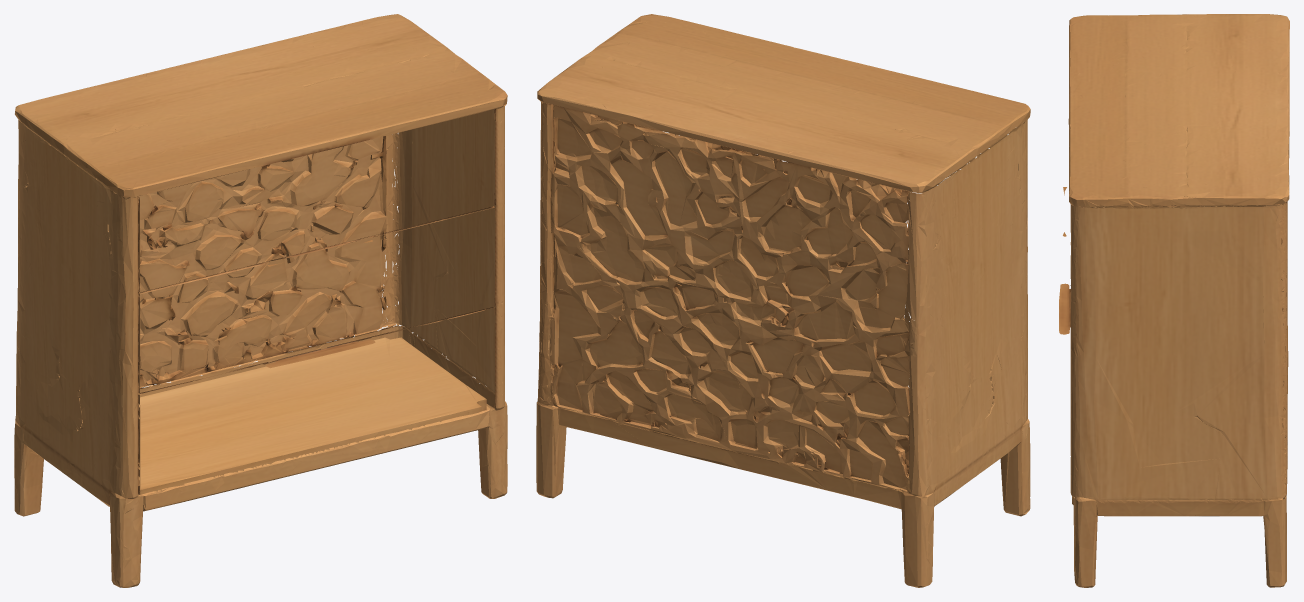
File: dresser-body.glb
3 views of the same model, side by side, from view 1: azimuth 30°, elevation 25°; view 2: azimuth 150°, elevation 25°; view 3: azimuth 270°, elevation 25° (orthographic). The views are drawn at different scales.
Parts seen in each view (by area): view 1: source_surface_3, source_surface_5, source_surface_4, source_surface_2, source_surface_1, source_surface_0, source_surface_6; view 2: source_surface_5, source_surface_3, source_surface_4, source_surface_1, source_surface_2; view 3: source_surface_2, source_surface_4, source_surface_3, source_surface_1, source_surface_0.
Part boxes in pixels (x1,y1,x2,y2): source_surface_3: (14, 119, 507, 587); source_surface_5: (18, 121, 495, 393); source_surface_4: (15, 14, 507, 197); source_surface_2: (391, 106, 505, 410); source_surface_1: (382, 133, 402, 327); source_surface_0: (137, 307, 495, 495); source_surface_6: (138, 109, 495, 292); source_surface_5: (546, 105, 924, 493); source_surface_3: (536, 120, 1030, 587); source_surface_4: (537, 14, 1030, 193); source_surface_1: (537, 102, 555, 406); source_surface_2: (537, 102, 555, 405); source_surface_2: (1070, 203, 1287, 503); source_surface_4: (1068, 14, 1289, 208); source_surface_3: (1070, 203, 1286, 587); source_surface_1: (1275, 202, 1288, 498); source_surface_0: (1059, 242, 1070, 334).
Bounding box in the file's own units: 0.8999 × 0.8938 × 0.4754.
1 material, 1 textured.
